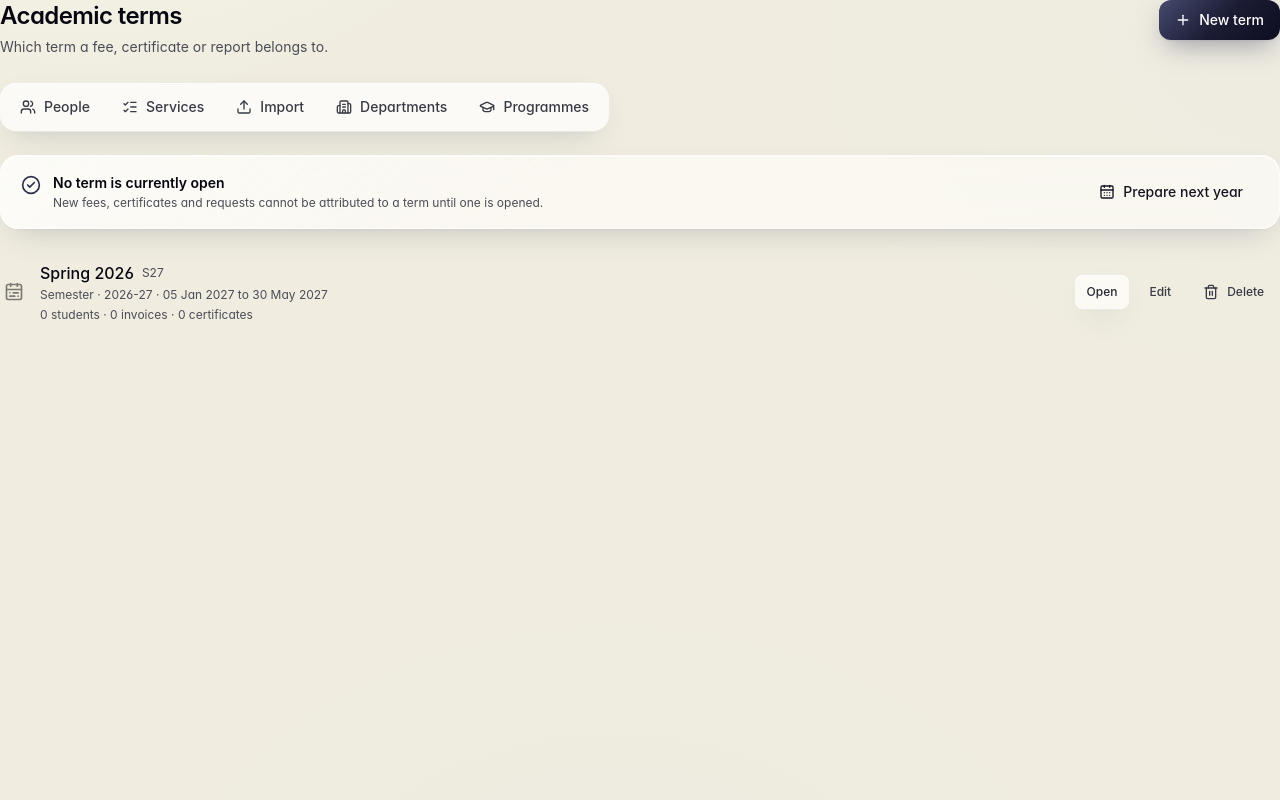
Test: academic terms screen › opens an edit dialog that refuses to move a closed term's dates
What coordinates should you click on to do the following:
click the button "Edit"
I would click on:
 (1160, 292)
Its box is [1137,275,1183,309].
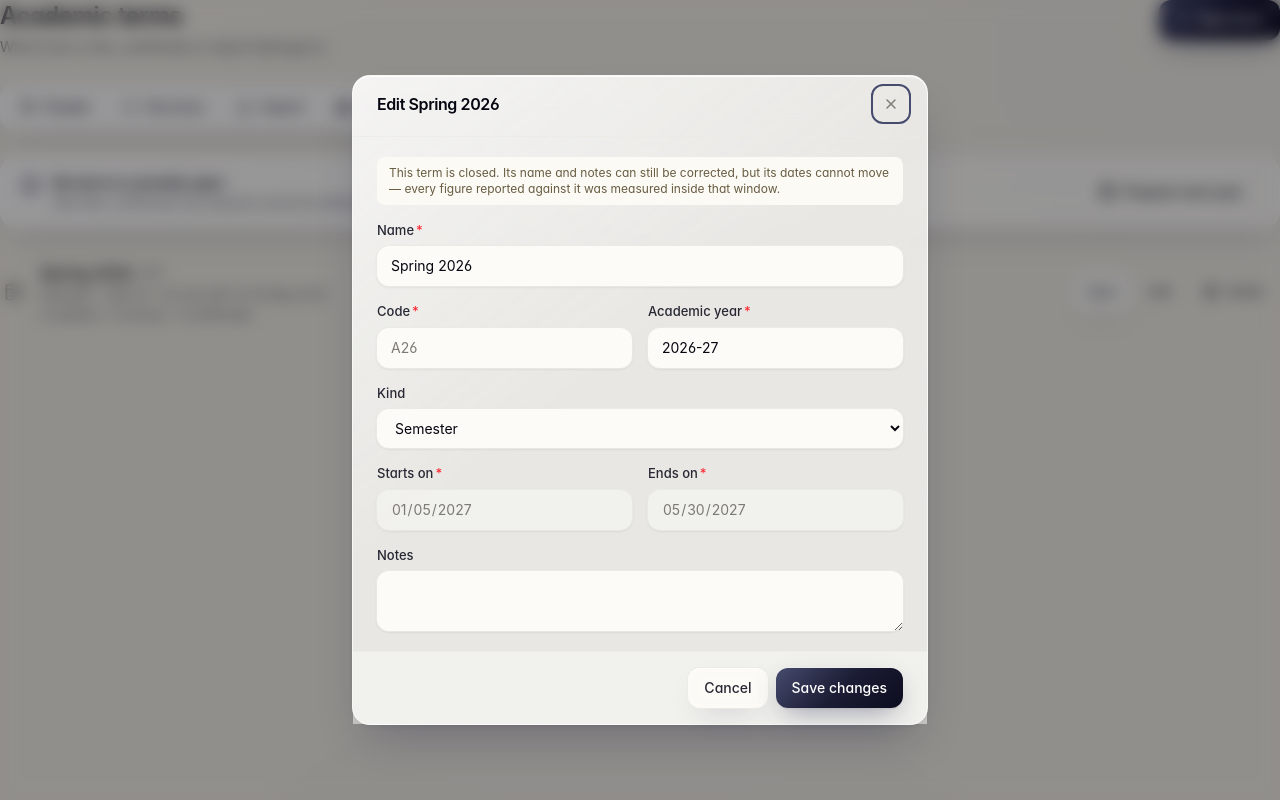
Result: the text "cannot move" is shown at [389,165,889,196]
Result: the date field labelled "Starts on*" is disabled at [377,490,632,530]
Result: the date field labelled "Ends on*" is disabled at [648,490,903,530]
